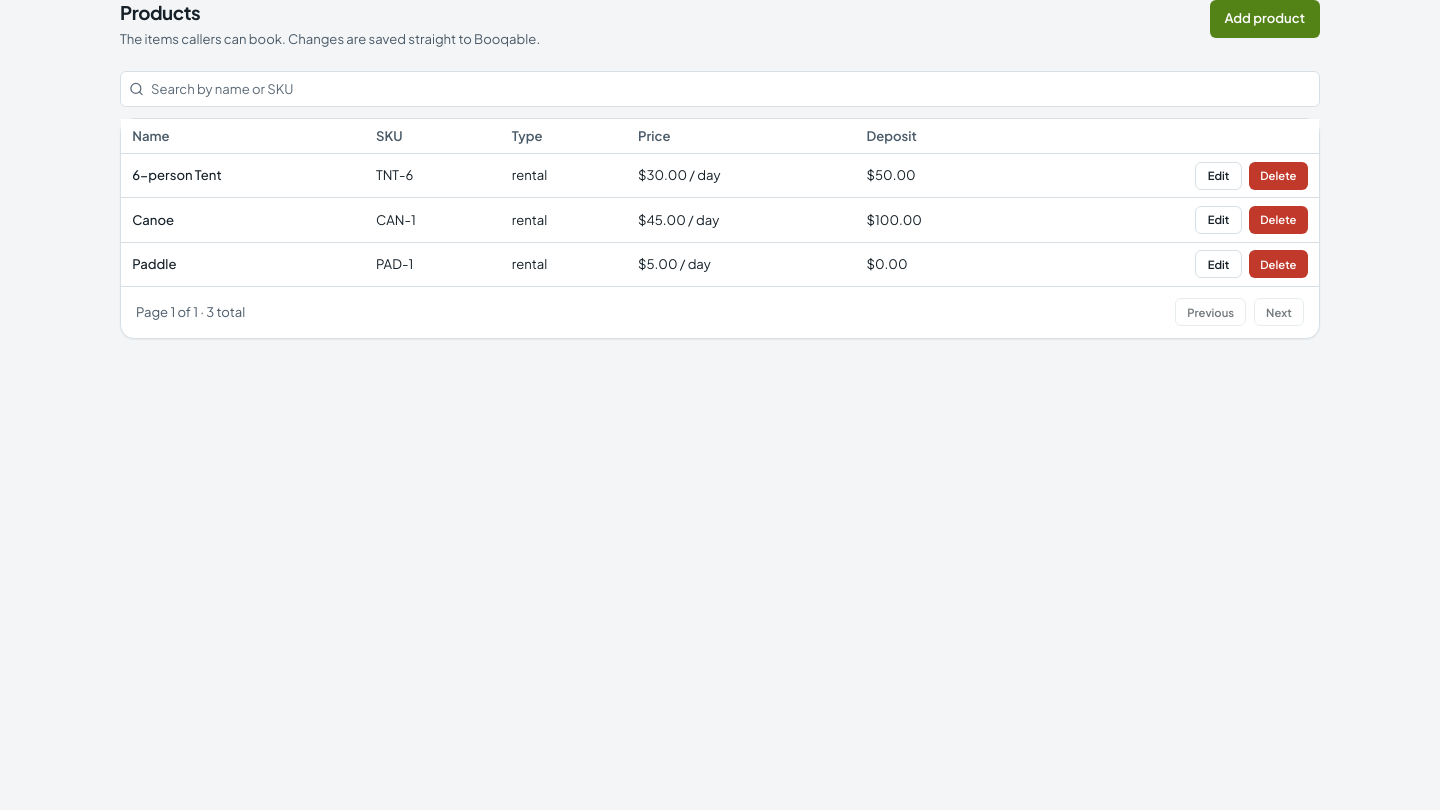
it: ProductsPage › requires a name
This screenshot has width=1440, height=810.
Expected: the text "Canoe" is shown, top-left (132, 210), bottom-right (174, 228)
Click the button "Add product" at (1265, 19), box top-left (1210, 0), bottom-right (1320, 38)
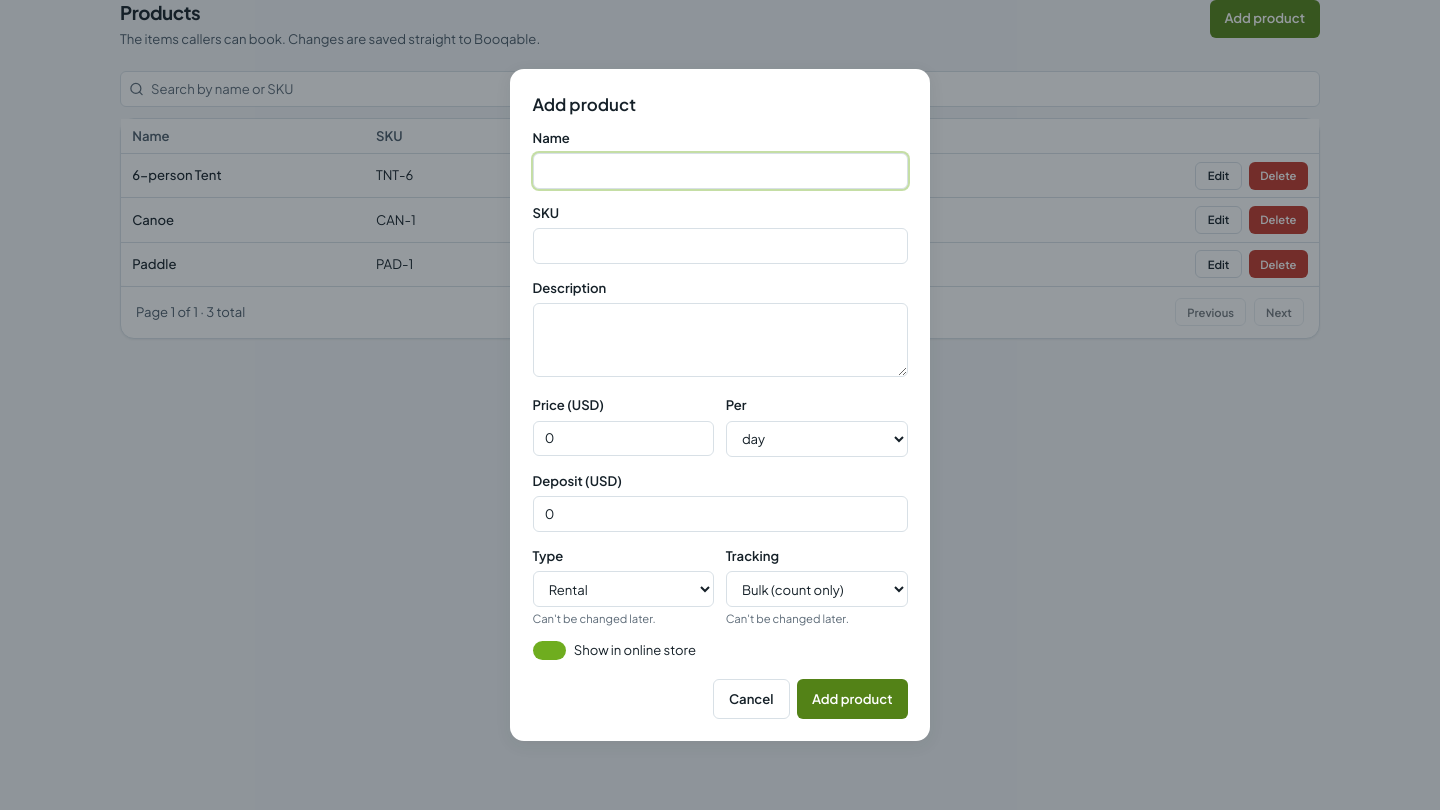
Click the button "Add product" at (852, 699), box top-left (797, 679), bottom-right (908, 719)
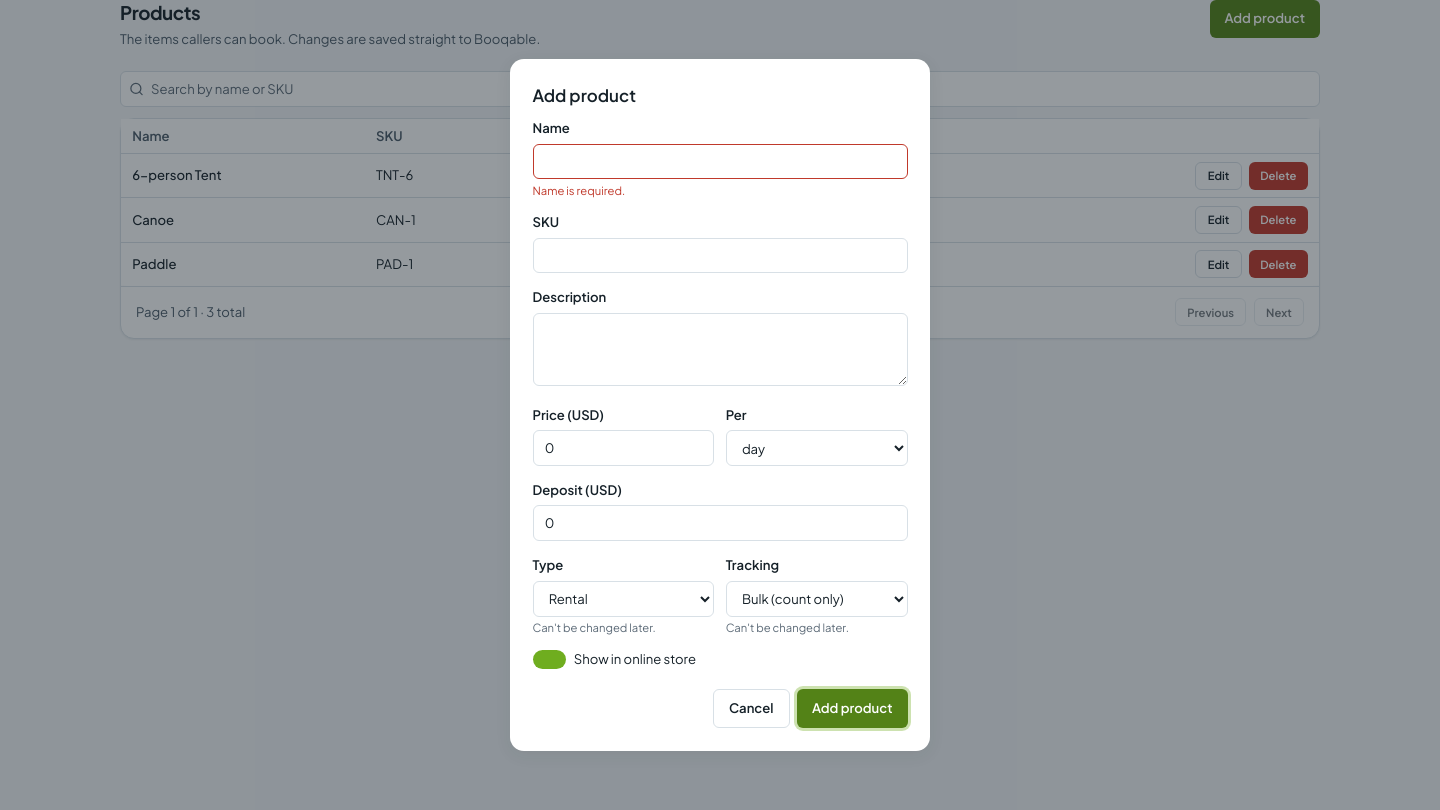
Expected: the text "Name is required." is shown, top-left (532, 183), bottom-right (625, 197)
